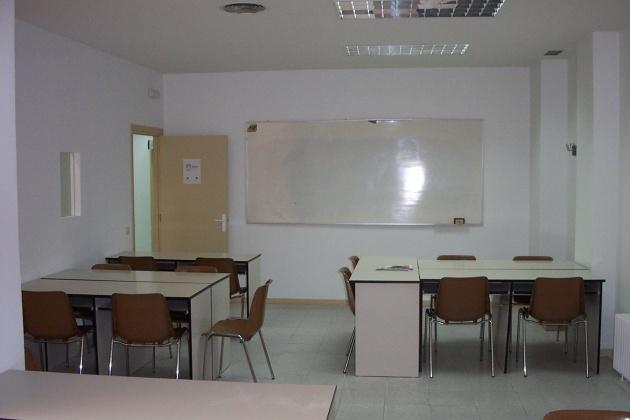Kursi: (199, 278, 275, 384), (424, 275, 496, 378), (516, 276, 589, 377), (106, 291, 190, 378)
Whiteboard: (244, 117, 483, 226)
